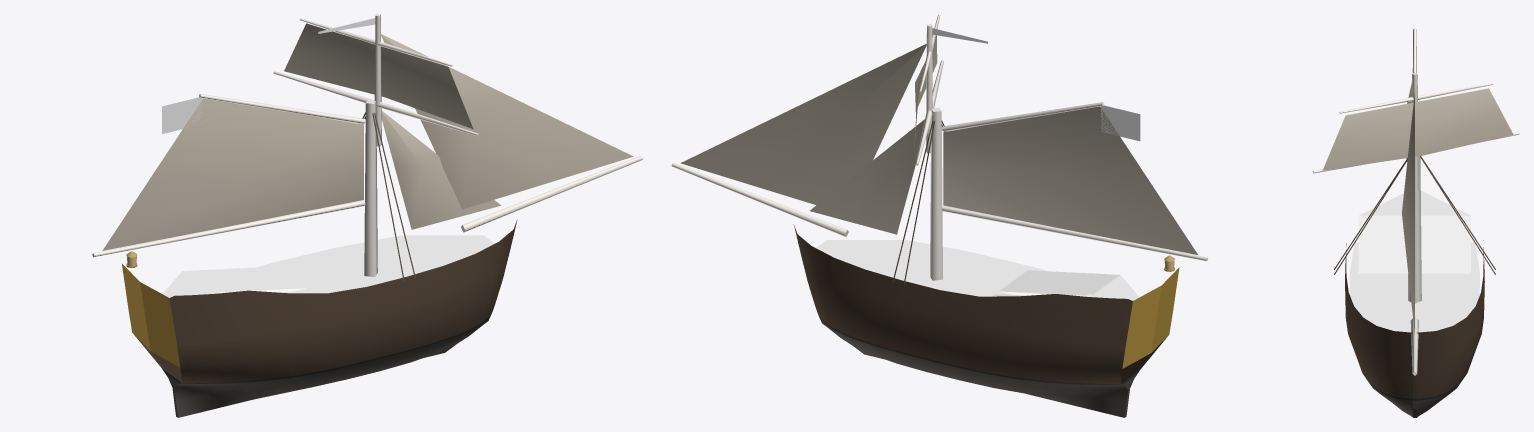
File: sloop_v2_lod2.glb
3 views of the same model, side by side, from view 1: azimuth 30°, elevation 25°; view 2: azimuth 150°, elevation 25°; view 3: azimuth 270°, elevation 25° (orthographic). The views are drawn at different scales.
Visible parts, largest first — view 1: SM_Sloop_LOD2; view 2: SM_Sloop_LOD2; view 3: SM_Sloop_LOD2.
Boxes of the visible parts, x1,y1,x2,y2 form: SM_Sloop_LOD2: (92,14,642,417); SM_Sloop_LOD2: (671,14,1208,417); SM_Sloop_LOD2: (1313,28,1519,417).
Size of the model in its own units: 24.76 by 13.3 by 7.9.
